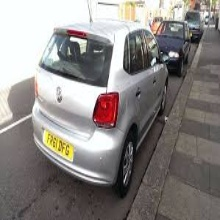no damage: (32, 18, 170, 197), (157, 20, 189, 73)
